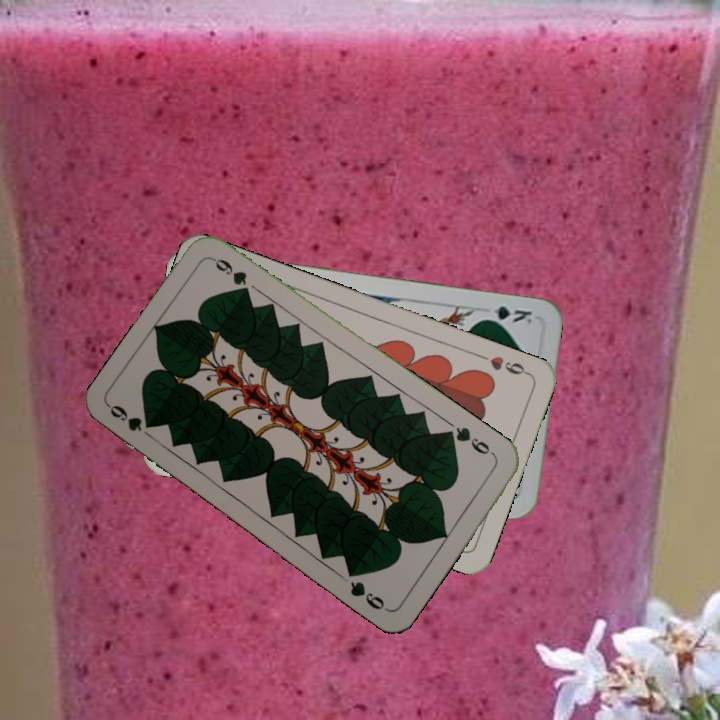G9: (442, 422, 498, 460), (105, 400, 145, 435)
GK: (477, 301, 535, 326)
H9: (475, 350, 532, 378)
